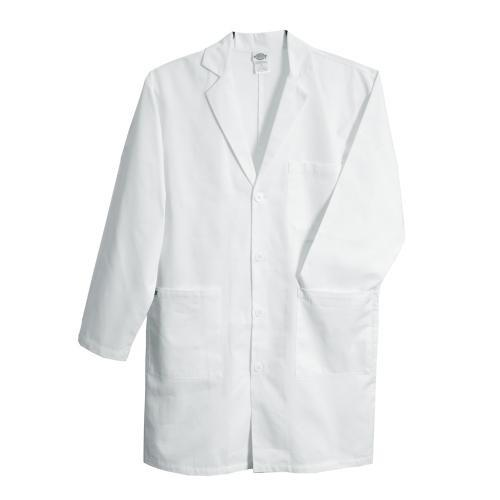lab_coat: (80, 30, 399, 471)
